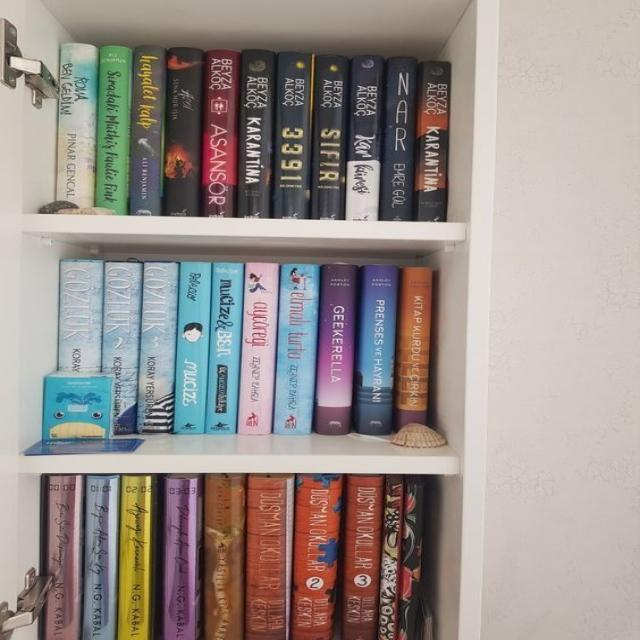book: (236, 263, 279, 436), (315, 264, 358, 436), (275, 265, 318, 434), (55, 44, 99, 208), (358, 265, 400, 434), (272, 52, 314, 219), (204, 262, 244, 436), (236, 49, 276, 218), (165, 49, 205, 217), (201, 48, 239, 218), (94, 46, 132, 214), (138, 262, 175, 434), (312, 53, 350, 220), (129, 46, 166, 216), (174, 261, 210, 434), (102, 262, 138, 434), (346, 54, 383, 221), (382, 55, 417, 221), (397, 266, 432, 427), (419, 62, 452, 223), (57, 261, 104, 371)
